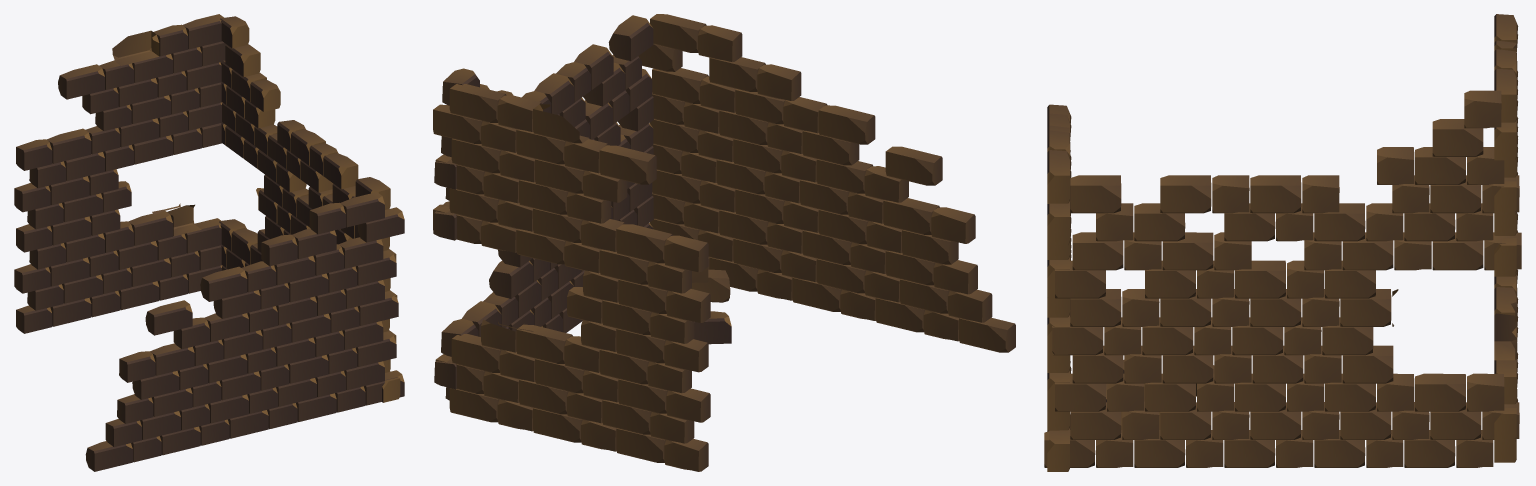
File: brokenhouse.fbx
The picture shows the model from 3 angles, left to right: view 1: azimuth 30°, elevation 25°; view 2: azimuth 150°, elevation 25°; view 3: azimuth 270°, elevation 25°; orthographic projection. The views are drawn at different scales.
Parts seen in each view (by area): view 1: Cube.004; view 2: Cube.004; view 3: Cube.004.
Part boxes in pixels (x1,y1,x2,y2): Cube.004: (14,14,404,471); Cube.004: (433,14,1015,471); Cube.004: (1044,14,1521,471).
Size of the model in its own units: 1969 by 1609 by 1885.
